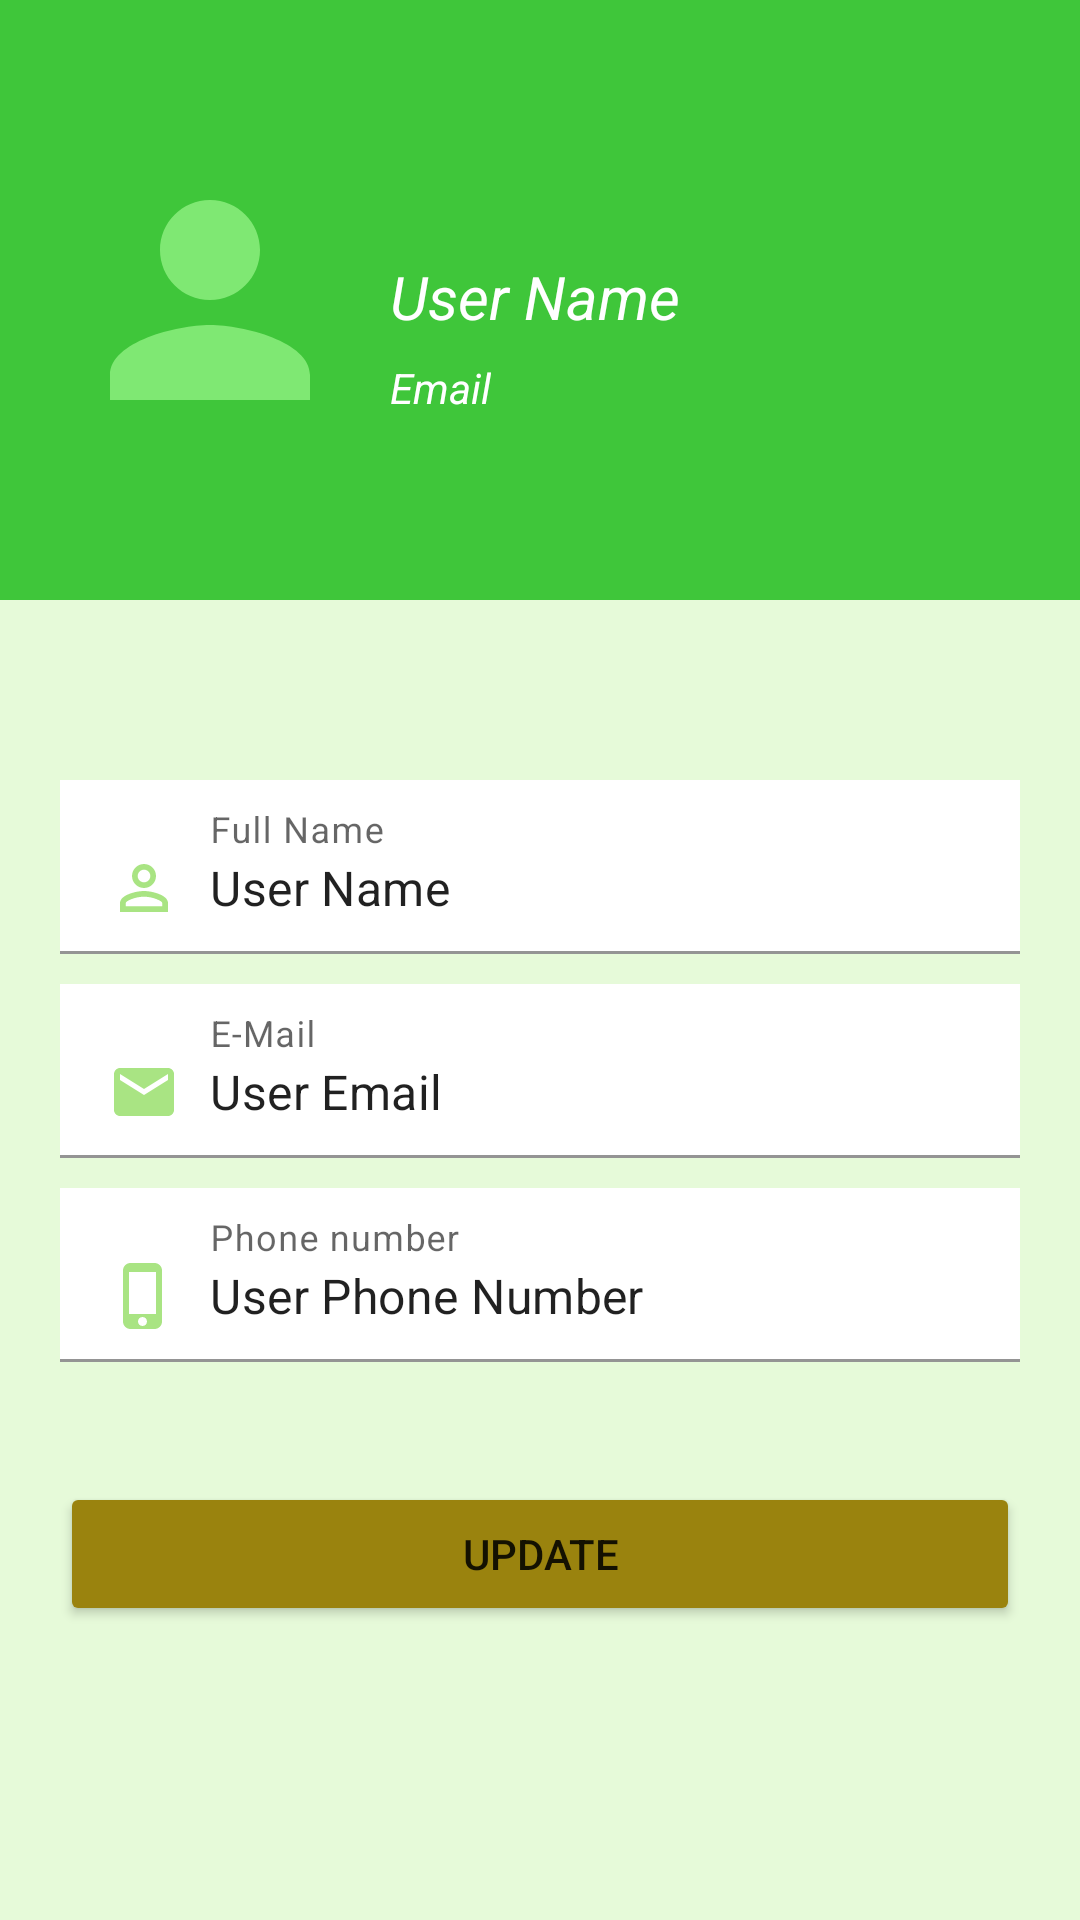

Locate icon controls on the screen. Image size 1080px x 1920px, boxes as (x1, y1, x2, y2).
person: (110, 200, 310, 400)
